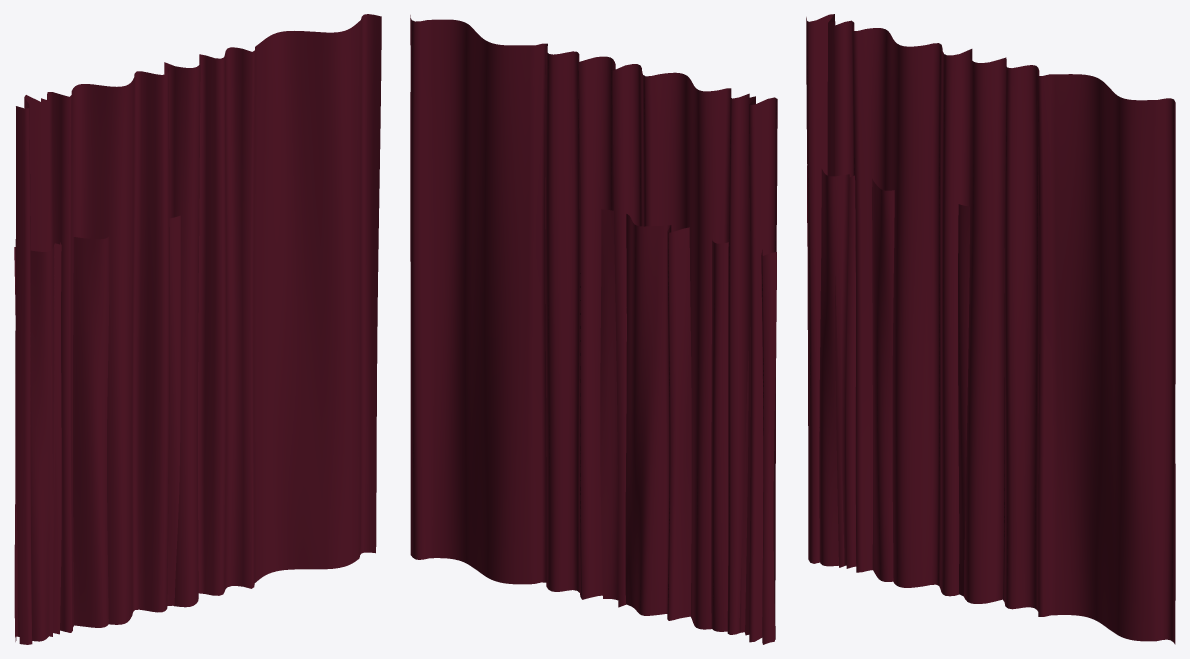
File: tende.glb
The picture shows the model from 3 angles, left to right: view 1: azimuth 30°, elevation 25°; view 2: azimuth 150°, elevation 25°; view 3: azimuth 330°, elevation 25°; orthographic projection.
Parts seen in each view (by area): view 1: tenda_schermo, tenda_porta; view 2: tenda_schermo, tenda_porta; view 3: tenda_schermo, tenda_porta.
Part boxes in pixels (x1=…): tenda_schermo: x1=15, y1=14, x2=381, y2=644; tenda_porta: x1=14, y1=215, x2=180, y2=641; tenda_schermo: x1=410, y1=15, x2=777, y2=642; tenda_porta: x1=600, y1=209, x2=776, y2=644; tenda_schermo: x1=806, y1=14, x2=1175, y2=644; tenda_porta: x1=807, y1=165, x2=969, y2=596.
Size of the model in its own units: 2.4 by 3.37 by 0.1927.
